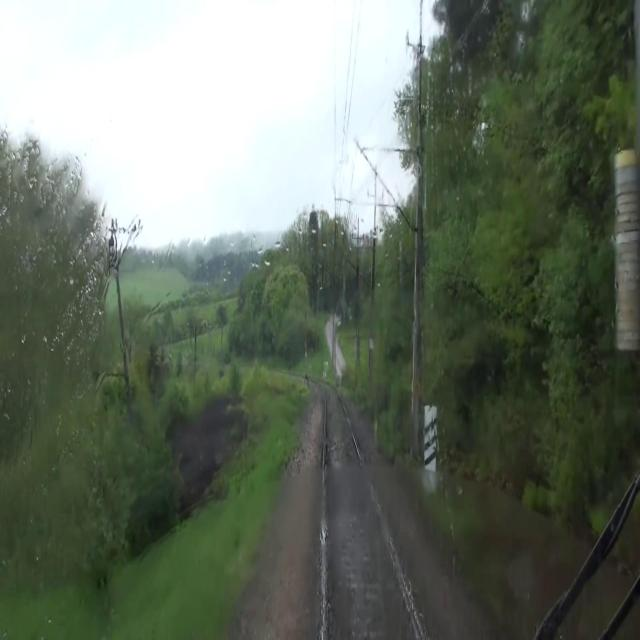rail-track: (322, 383, 419, 639)
